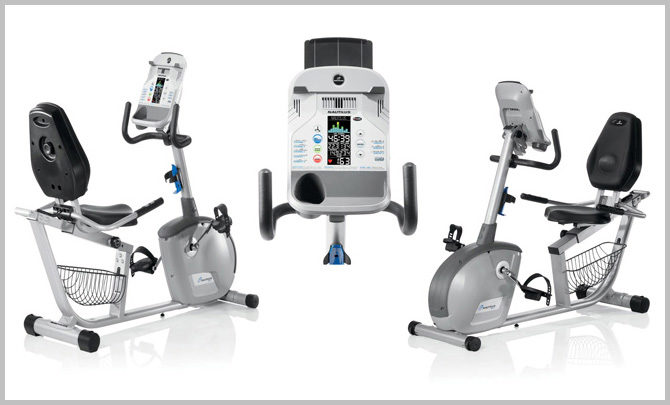gym_bike: (15, 48, 261, 349), (405, 92, 651, 359)
